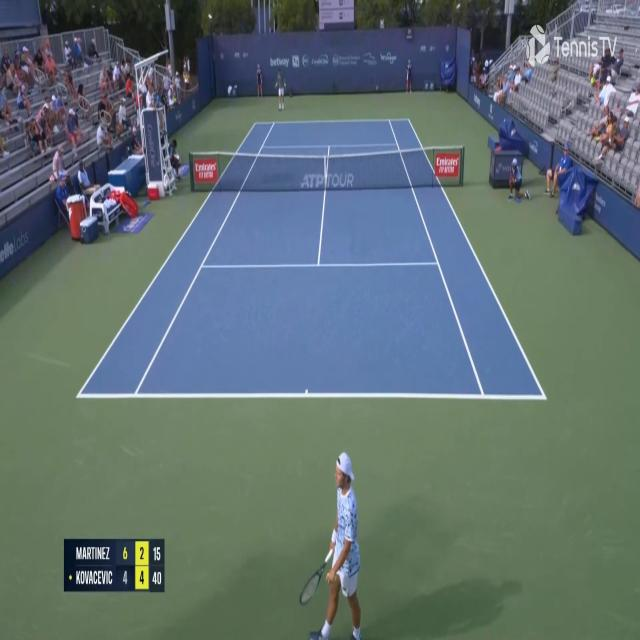tennis-player: (298, 450, 371, 640)
